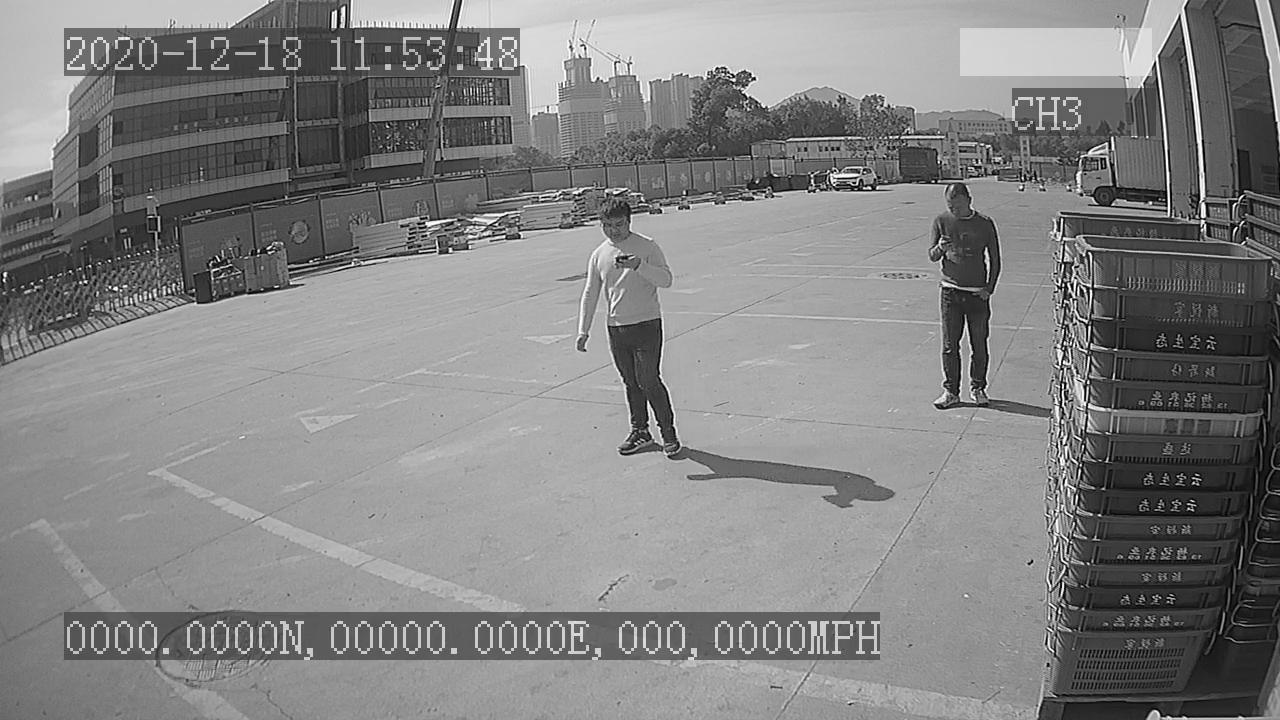person: (567, 194, 684, 463), (911, 172, 1013, 417)
